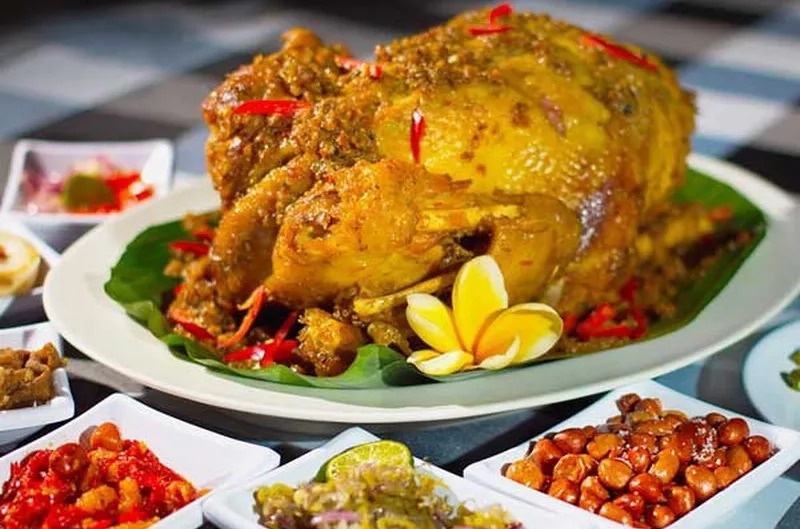ayam_betutu: (204, 7, 698, 253)
